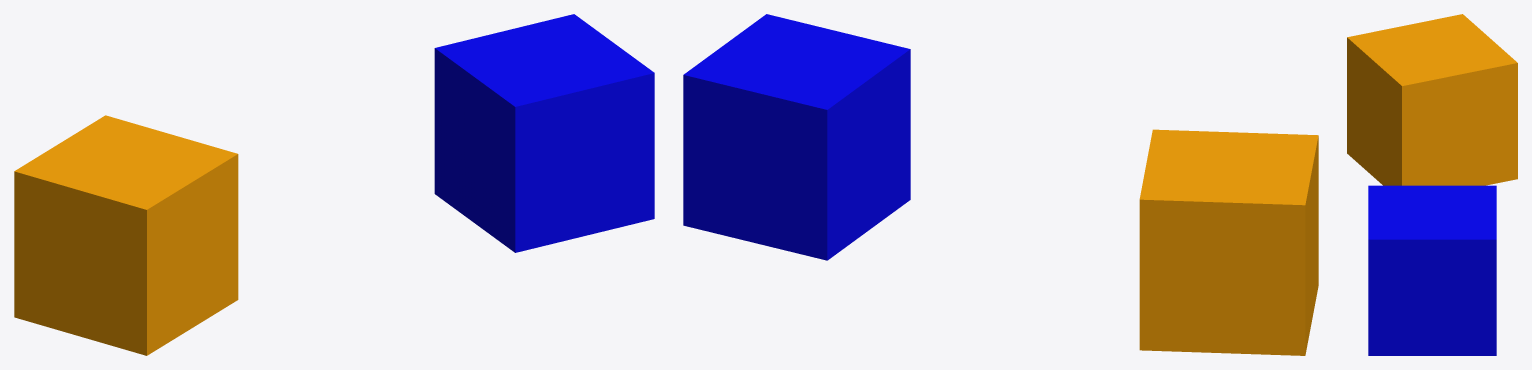
Rendered from animated-cubes (2).glb.
3 renders of one model, left to right at view 1: azimuth 30°, elevation 25°; view 2: azimuth 150°, elevation 25°; view 3: azimuth 270°, elevation 25°, orthographic. The views are drawn at different scales.
Visible parts, largest first — view 1: rotatingCube, staticCube; view 2: staticCube, rotatingCube; view 3: rotatingCube, staticCube.
Boxes of the visible parts, bbox=[...] form: rotatingCube: bbox=[14, 115, 238, 355]; staticCube: bbox=[434, 14, 654, 252]; staticCube: bbox=[683, 14, 910, 260]; rotatingCube: bbox=[1139, 129, 1318, 355]; rotatingCube: bbox=[1347, 14, 1517, 185]; staticCube: bbox=[1368, 185, 1496, 355].
Bounding box in the file's own units: 12.5 × 3 × 4.
